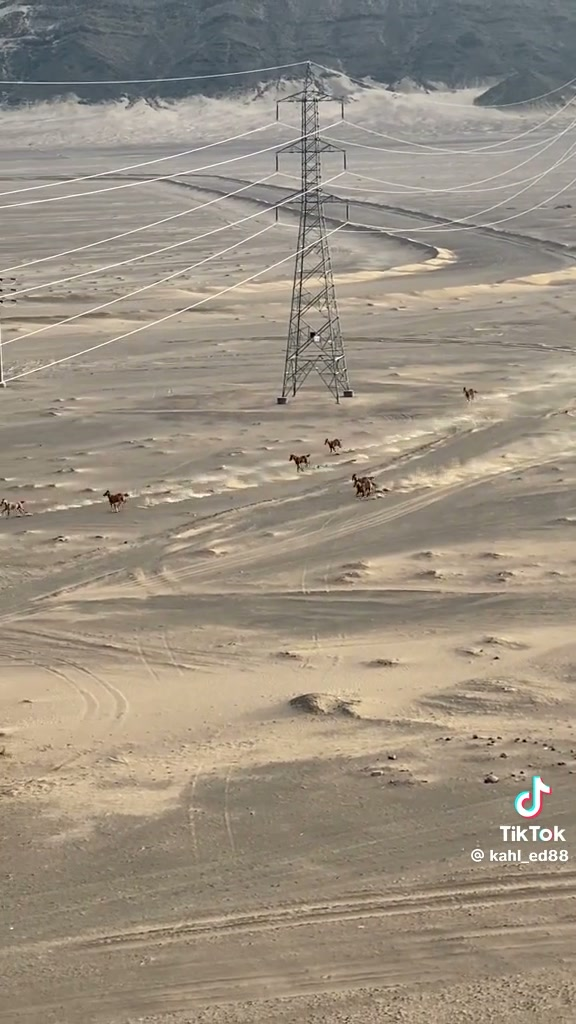animal: (103, 489, 128, 511), (352, 474, 375, 496), (0, 500, 29, 516), (289, 453, 309, 471), (325, 439, 341, 453), (463, 387, 476, 401)
vehicle_track: (0, 922, 575, 1023), (57, 870, 575, 949), (329, 465, 516, 540), (0, 546, 133, 627), (14, 657, 99, 722), (375, 427, 479, 471), (60, 658, 129, 722), (32, 662, 99, 721)
